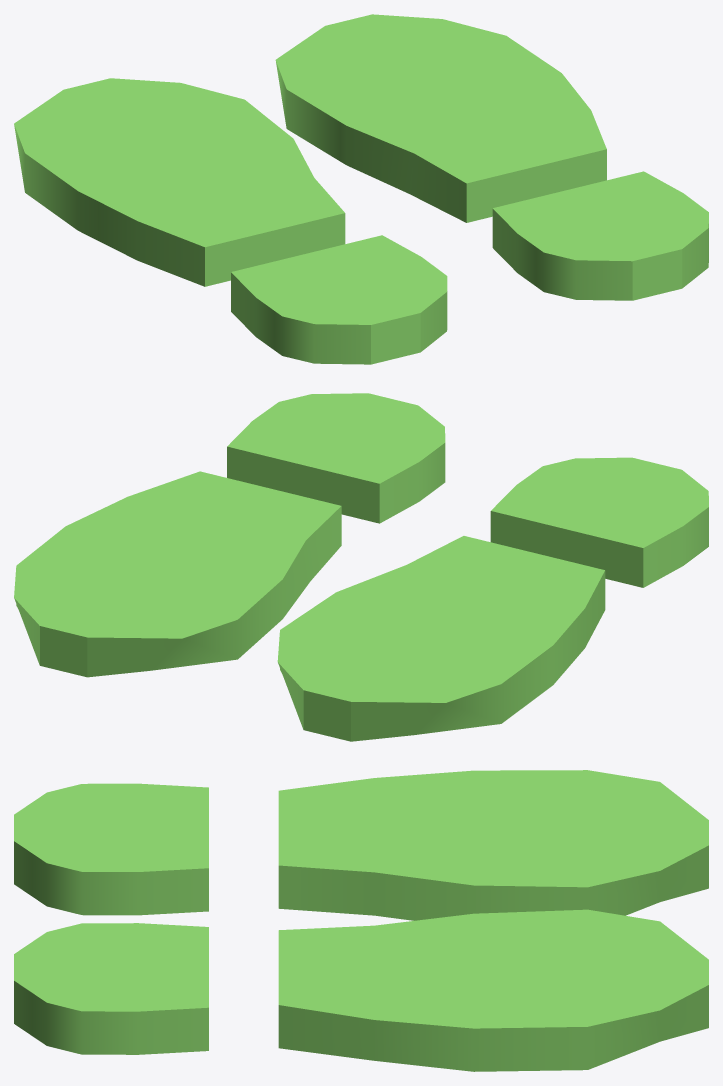
The model's file is Walkable.fbx.
3 renders of one model, top to bottom at view 1: azimuth 30°, elevation 25°; view 2: azimuth 150°, elevation 25°; view 3: azimuth 270°, elevation 25°, orthographic. The views are drawn at different scales.
Parts seen in each view (by area): view 1: pasted__pasted__pCube1, pasted__pCube1; view 2: pasted__pasted__pCube1, pasted__pCube1; view 3: pasted__pasted__pCube1, pasted__pCube1.
Boxes of the visible parts, <box> form: pasted__pasted__pCube1: <box>275,14,708,300</box>; pasted__pCube1: <box>14,78,447,364</box>; pasted__pasted__pCube1: <box>14,393,445,677</box>; pasted__pCube1: <box>277,457,708,741</box>; pasted__pasted__pCube1: <box>14,909,708,1071</box>; pasted__pCube1: <box>14,770,708,920</box>.
Size of the model in its own units: 0.4576 by 0.0357 by 0.52.
